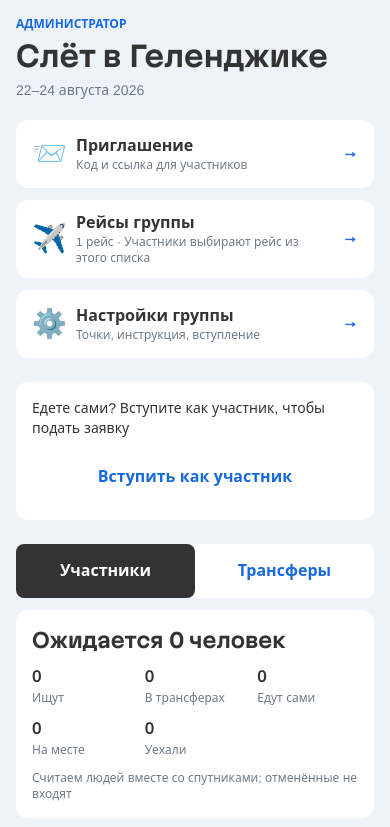
Test: AdminHub — вкладка «Трансферы» › номер трансфера в карточке участника совпадает с вкладкой «Трансферы»
Click the tab "Трансферы" at (284, 571), box [195,544,374,598]
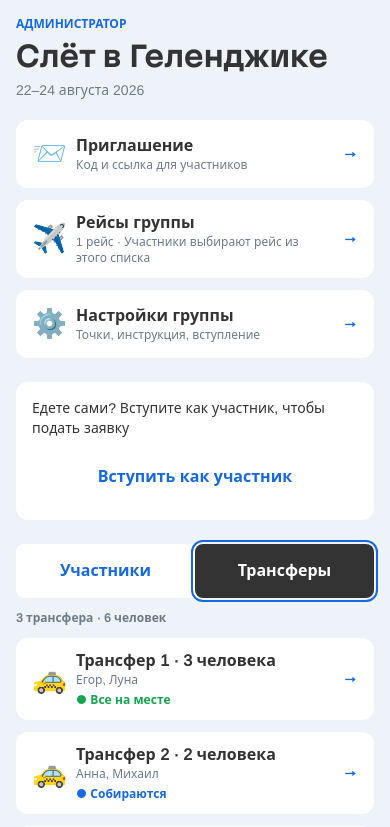
Result: the button "🚕 Трансфер 2 · 2 человека Анна, Михаил ● Собираются →" is shown at [16,732,374,814]
